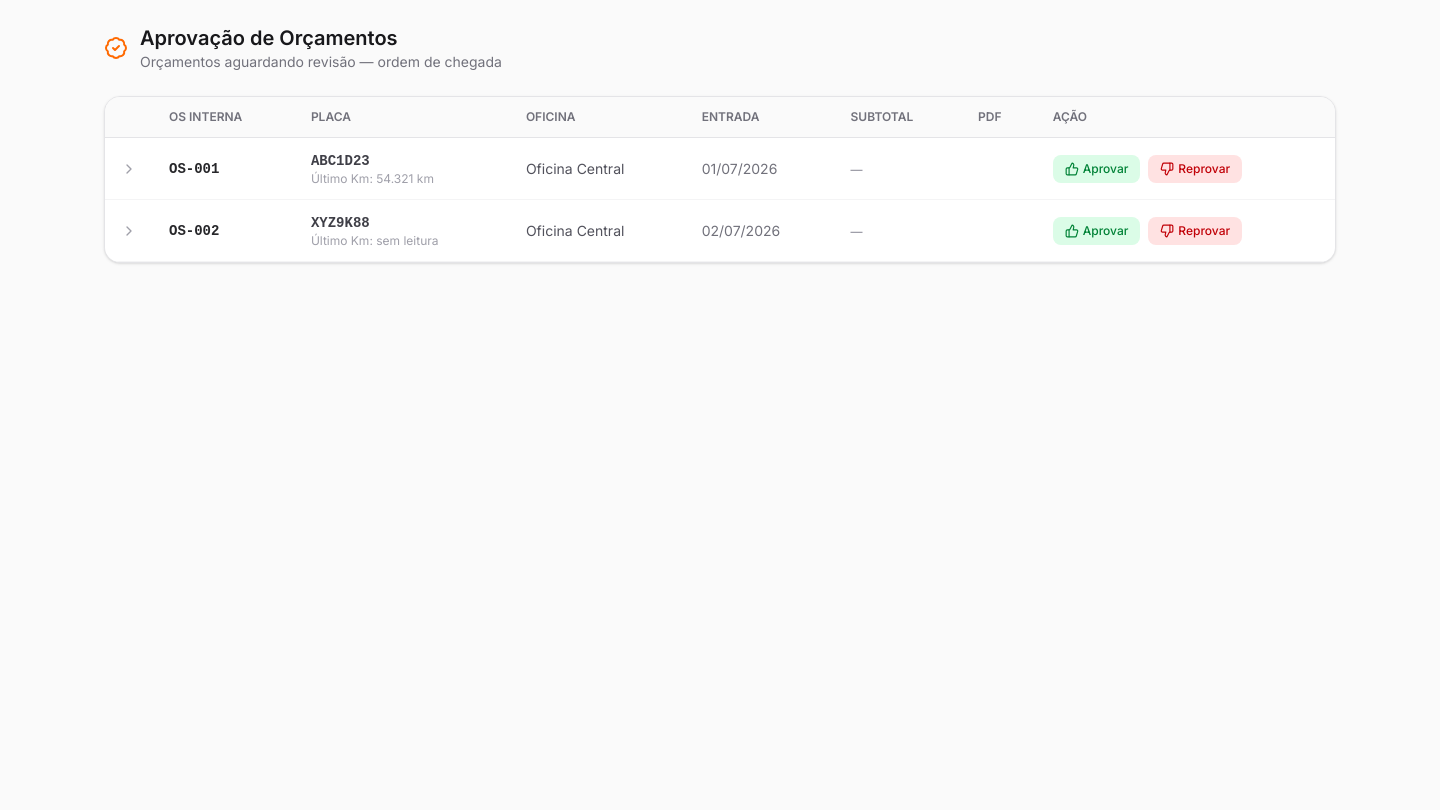
BudgetApprovals — motivo de reprovação › clicar "Reprovar" abre o modal e "Confirmar reprovação" fica desabilitado com motivo vazio
Click the button "Reprovar" in the row of "OS-001": (1195, 168) [1148, 154, 1242, 182]
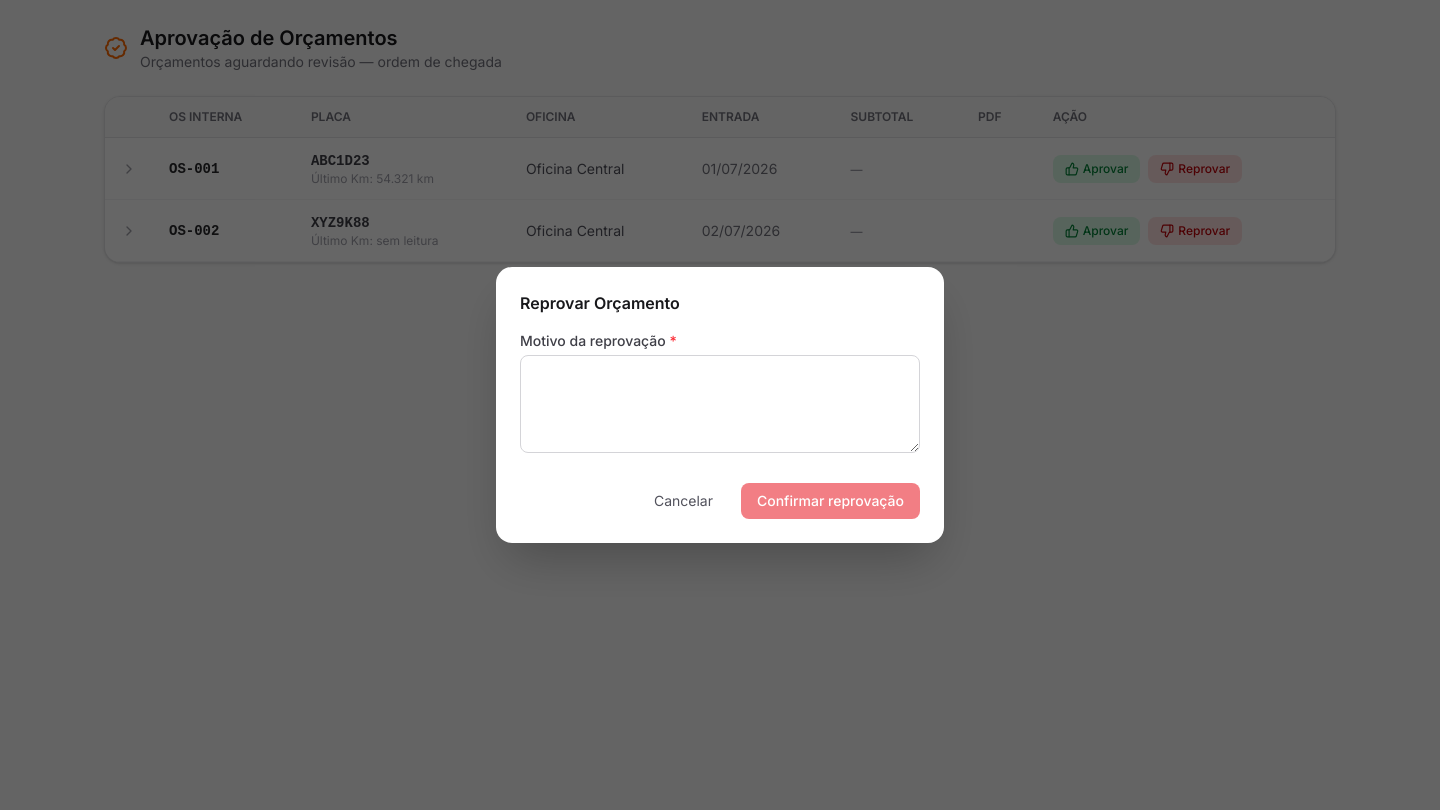
Expected: the text "Reprovar Orçamento" is shown, [520, 293, 680, 313]
Expected: the button "Confirmar reprovação" is disabled, [741, 483, 920, 519]
